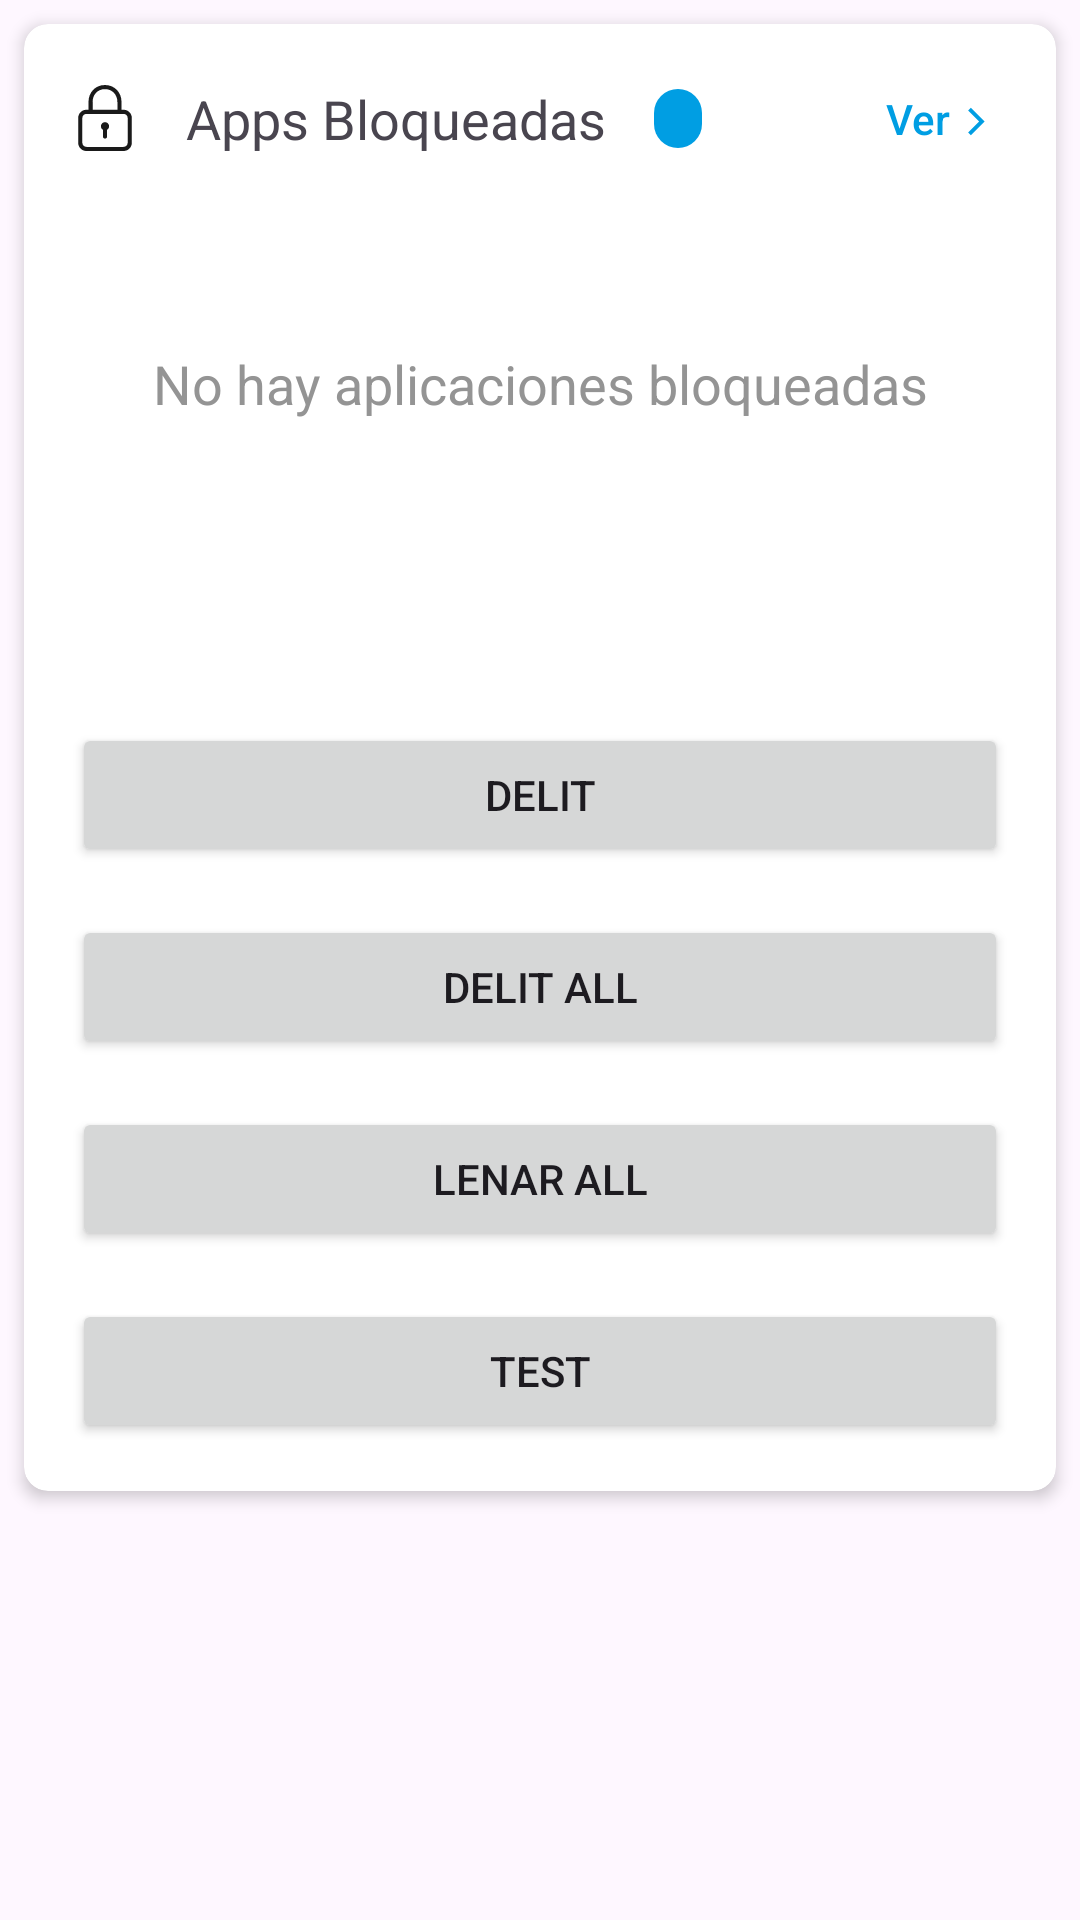

Icons on this 1080 × 1920 Android screen, each with its box as (x1, y1, x2, y2):
lock: (78, 85, 132, 151)
